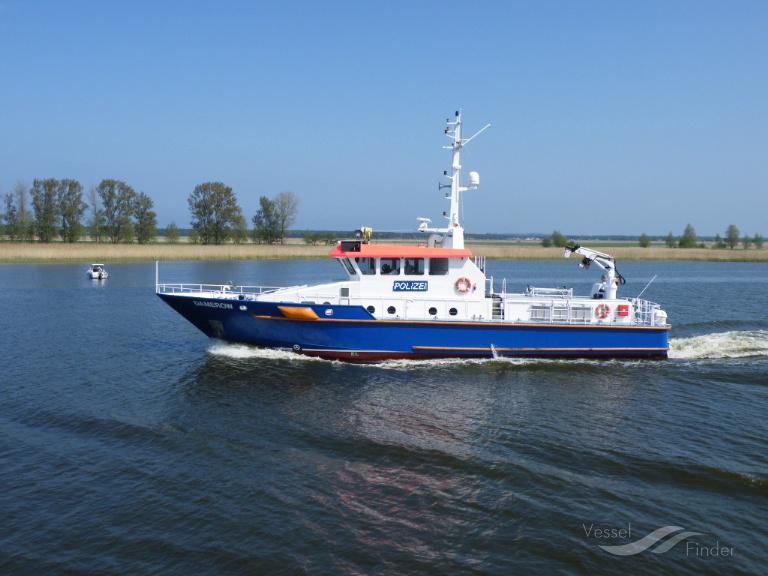OCR: (387, 272, 428, 296)
